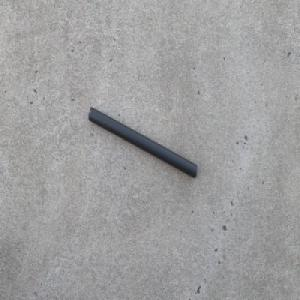LuggagePart: (87, 105, 198, 178)
